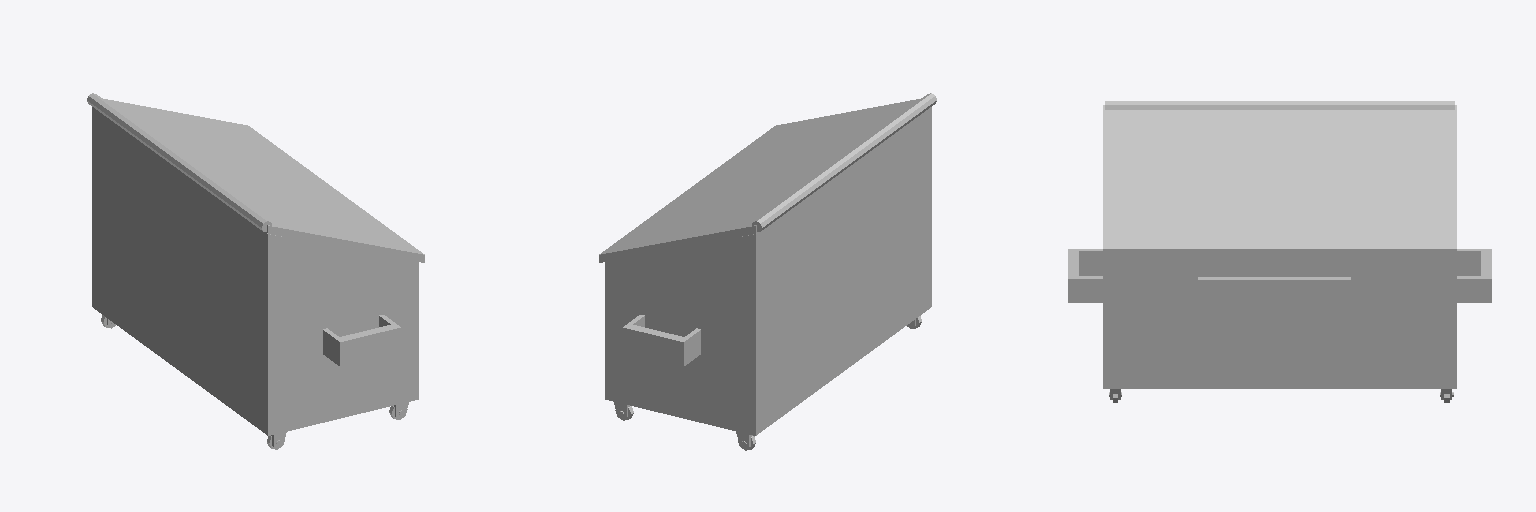
Rendered from Props_Dumpster_Geo.obj.
3 views of the same model, side by side, from view 1: azimuth 30°, elevation 25°; view 2: azimuth 150°, elevation 25°; view 3: azimuth 270°, elevation 25° (orthographic).
Parts seen in each view (by area): view 1: Dumpster, polySurface13 pCylinder80 Dumpster, pCylinder80 Dumpster; view 2: Dumpster, polySurface13 pCylinder80 Dumpster, pCylinder80 Dumpster; view 3: polySurface13 pCylinder80 Dumpster, Dumpster, Dumpster pCube139, pCylinder80 Dumpster.
Boxes of the visible parts, x1,y1,x2,y2 form: Dumpster: [92, 107, 418, 435]; polySurface13 pCylinder80 Dumpster: [102, 98, 424, 262]; pCylinder80 Dumpster: [87, 93, 271, 231]; Dumpster: [605, 107, 931, 435]; polySurface13 pCylinder80 Dumpster: [599, 98, 921, 262]; pCylinder80 Dumpster: [752, 93, 936, 231]; polySurface13 pCylinder80 Dumpster: [1103, 105, 1456, 257]; Dumpster: [1068, 249, 1491, 388]; Dumpster pCube139: [1198, 277, 1350, 362]; pCylinder80 Dumpster: [1105, 101, 1454, 109].
Size of the model in its own units: 1.74 by 2.38 by 3.9.